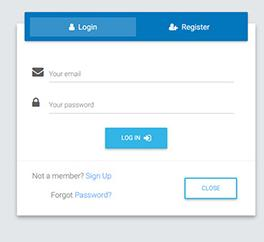button: (102, 125, 171, 151), (183, 176, 238, 200)
field: (30, 64, 238, 87)
field_line: (32, 95, 237, 117)
